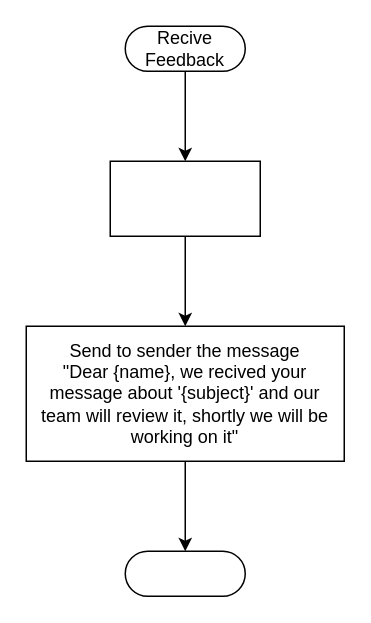
This 371x623 diagram has some shape labels left out. Here are the shapes that lost their labels. From the top down, the centre of each, then its label:
the point at 184,198: Get name, sender and subject
the point at 184,573: Return message
